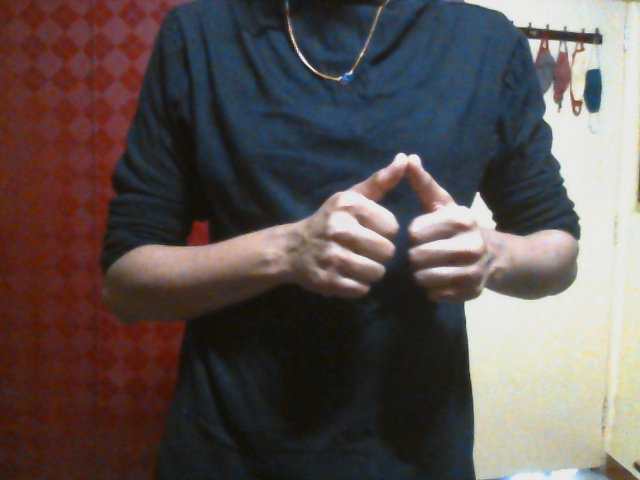A: (301, 152, 488, 303)
